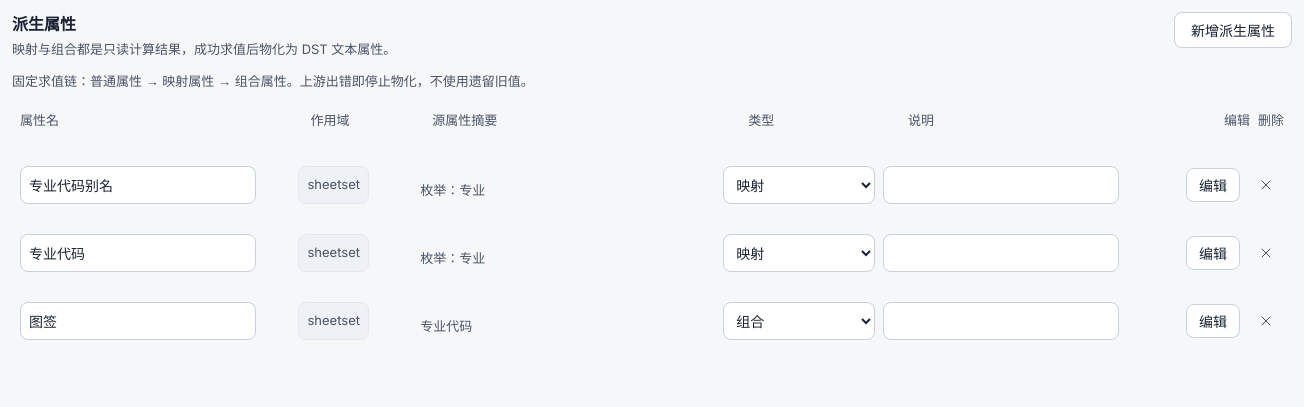
Test: DerivedPropertyEditor › blocks deleting a derived property that the dwg naming template uses
The width and height of the screenshot is (1304, 407).
Step 1. Click the button with test id "derived-remove-prop-code" → [1266, 253], box [1248,235,1284,271]
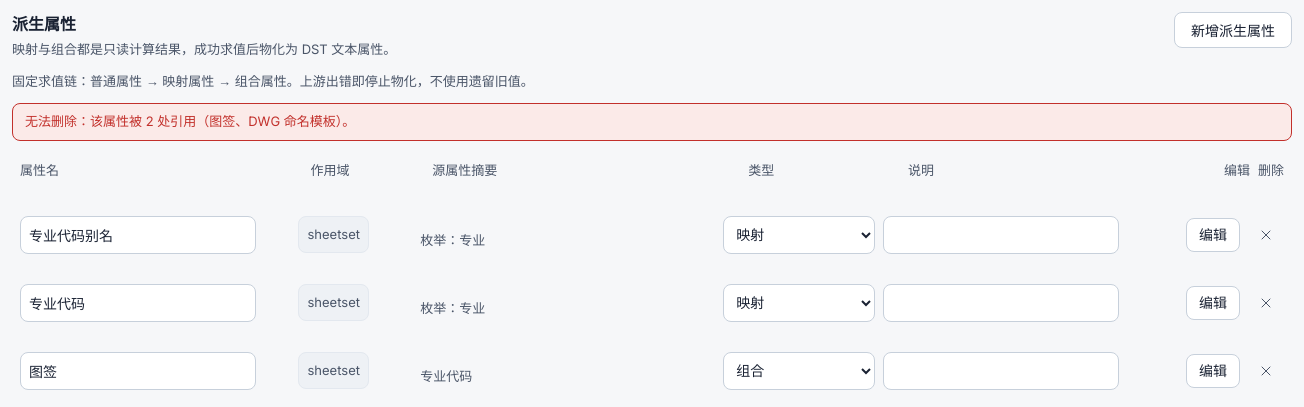
Now the message with test id "derived-delete-blocked" shows "图签", box [25,113,355,129]
